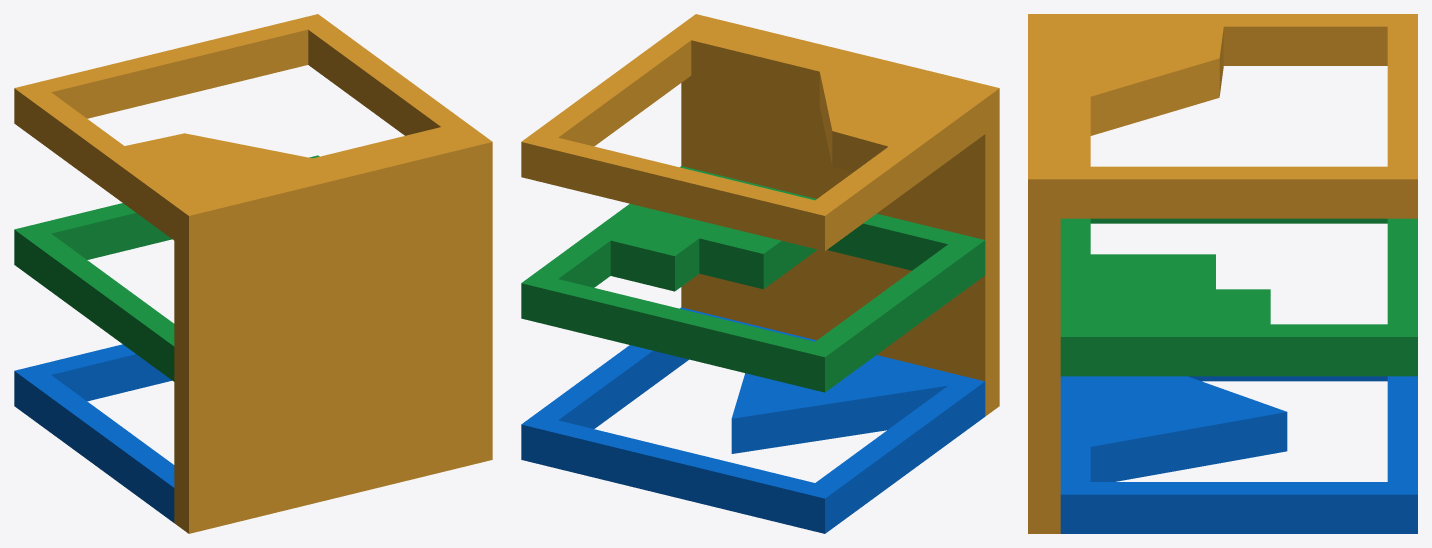
The picture shows the model from 3 angles, left to right: view 1: azimuth 30°, elevation 25°; view 2: azimuth 150°, elevation 25°; view 3: azimuth 270°, elevation 25°; orthographic projection. The views are drawn at different scales.
Parts seen in each view (by area): view 1: Cube.016_Cube.000, Cube.016_Cube.009, Cube.016_Cube.002, Cube.016_Cube.001; view 2: Cube.016_Cube.009, Cube.016_Cube.000, Cube.016_Cube.001, Cube.016_Cube.002; view 3: Cube.016_Cube.009, Cube.016_Cube.001, Cube.016_Cube.002, Cube.016_Cube.000.
Part boxes in pixels (x1,y1,x2,y2): Cube.016_Cube.000: [174, 131, 492, 533]; Cube.016_Cube.009: [14, 14, 477, 240]; Cube.016_Cube.002: [14, 155, 319, 381]; Cube.016_Cube.001: [14, 344, 174, 522]; Cube.016_Cube.009: [521, 24, 985, 251]; Cube.016_Cube.000: [681, 14, 999, 416]; Cube.016_Cube.001: [521, 307, 985, 533]; Cube.016_Cube.002: [521, 166, 985, 392]; Cube.016_Cube.009: [1060, 14, 1417, 218]; Cube.016_Cube.001: [1060, 376, 1417, 533]; Cube.016_Cube.002: [1060, 218, 1417, 376]; Cube.016_Cube.000: [1028, 14, 1060, 533].
Size of the model in its own units: 0.32 by 0.32 by 0.3187.
